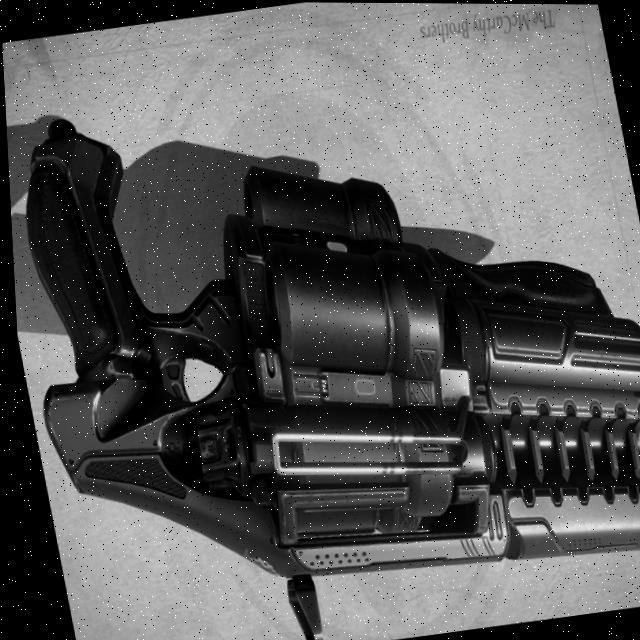firearm: (2, 38, 640, 640)
